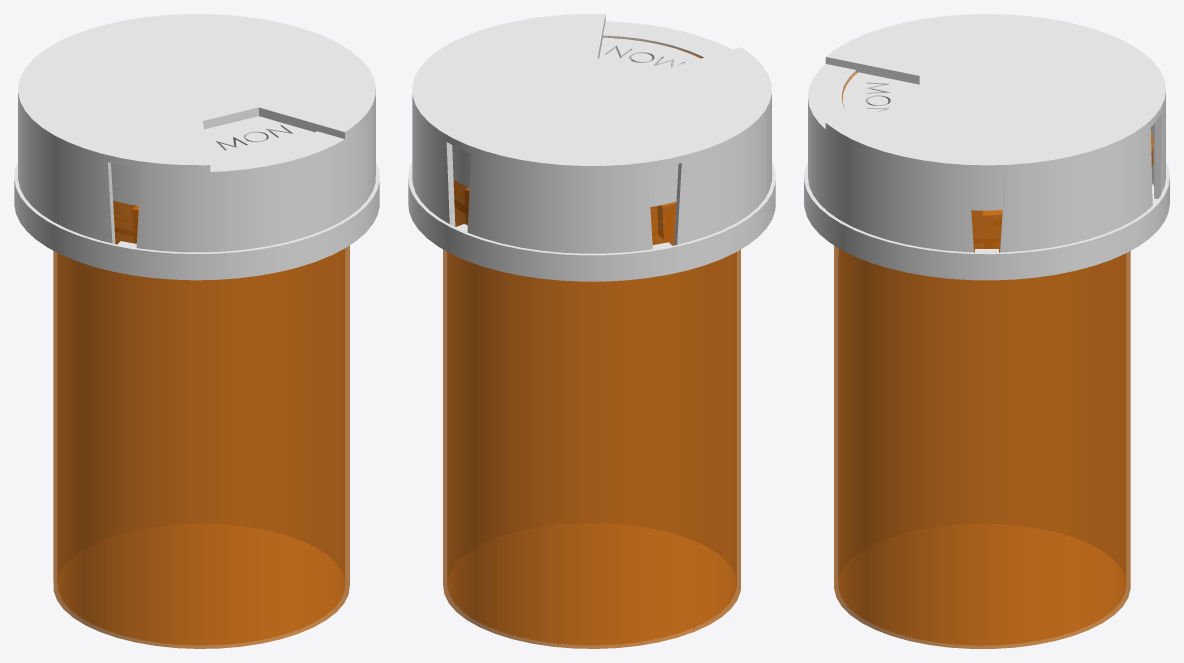
File: assembly.glb
The picture shows the model from 3 angles, left to right: view 1: azimuth 30°, elevation 25°; view 2: azimuth 150°, elevation 25°; view 3: azimuth 270°, elevation 25°; orthographic projection.
Parts seen in each view (by area): view 1: BOTTLE BASE (ZAYATZ-BEAMESDERFER)-2, CAP CASING (ZAYATZ-BEAMESDERFER)-1, DAY WHEEL (ZAYATZ-BEAMESDERFER)-1; view 2: BOTTLE BASE (ZAYATZ-BEAMESDERFER)-2, CAP CASING (ZAYATZ-BEAMESDERFER)-1, DAY WHEEL (ZAYATZ-BEAMESDERFER)-1; view 3: BOTTLE BASE (ZAYATZ-BEAMESDERFER)-2, CAP CASING (ZAYATZ-BEAMESDERFER)-1, DAY WHEEL (ZAYATZ-BEAMESDERFER)-1.
Boxes of the visible parts, <box> form: BOTTLE BASE (ZAYATZ-BEAMESDERFER)-2: <box>53,146,349,648</box>; CAP CASING (ZAYATZ-BEAMESDERFER)-1: <box>14,14,379,280</box>; DAY WHEEL (ZAYATZ-BEAMESDERFER)-1: <box>204,116,314,157</box>; BOTTLE BASE (ZAYATZ-BEAMESDERFER)-2: <box>443,37,740,648</box>; CAP CASING (ZAYATZ-BEAMESDERFER)-1: <box>408,14,775,281</box>; DAY WHEEL (ZAYATZ-BEAMESDERFER)-1: <box>599,37,700,71</box>; BOTTLE BASE (ZAYATZ-BEAMESDERFER)-2: <box>834,72,1153,648</box>; CAP CASING (ZAYATZ-BEAMESDERFER)-1: <box>804,14,1169,280</box>; DAY WHEEL (ZAYATZ-BEAMESDERFER)-1: <box>842,72,919,117</box>.
Size of the model in its own units: 0.0482 by 0.0721 by 0.0483.
